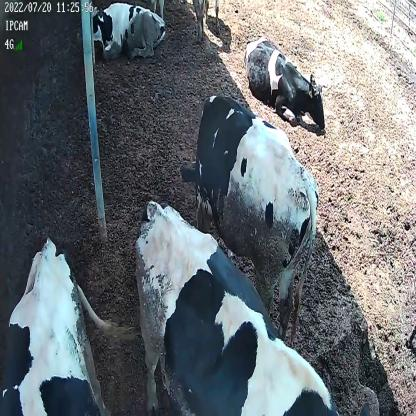cow: (134, 197, 335, 416), (178, 93, 320, 339), (244, 29, 328, 137), (84, 4, 166, 62)
